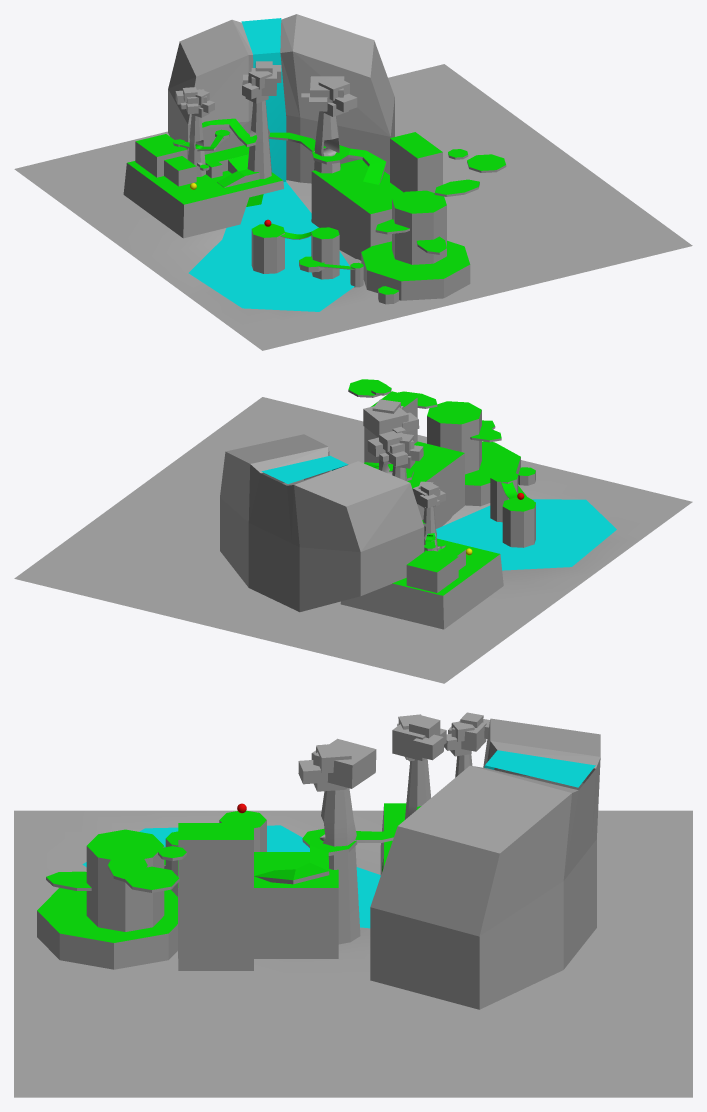
The model's file is Level_2.fbx.
3 views of the same model, one above another, from view 1: azimuth 30°, elevation 25°; view 2: azimuth 150°, elevation 25°; view 3: azimuth 270°, elevation 25° (orthographic). The views are drawn at different scales.
Parts seen in each view (by area): view 1: polySurface67, polySurface65, polySurface64, polySurface63, polySurface66, polySurface73, polySurface71, polySurface68, polySurface54, polySurface72, polySurface23, polySurface44 (+7 smaller); view 2: polySurface67, polySurface65, polySurface64, polySurface63, polySurface66, polySurface71, polySurface73, polySurface23, polySurface72, polySurface75, polySurface55, polySurface68 (+1 smaller); view 3: polySurface67, polySurface65, polySurface68, polySurface66, polySurface73, polySurface71, polySurface64, polySurface62, polySurface21, polySurface55, polySurface54, polySurface19 (+7 smaller).
Boxes of the visible parts, bbox=[...] form: polySurface67: bbox=[14, 64, 692, 350]; polySurface65: bbox=[168, 14, 394, 183]; polySurface64: bbox=[188, 18, 354, 311]; polySurface63: bbox=[123, 161, 283, 238]; polySurface66: bbox=[311, 159, 403, 260]; polySurface73: bbox=[361, 240, 470, 300]; polySurface71: bbox=[392, 190, 446, 264]; polySurface68: bbox=[390, 132, 442, 192]; polySurface54: bbox=[247, 100, 326, 178]; polySurface72: bbox=[251, 223, 284, 273]; polySurface23: bbox=[135, 134, 187, 177]; polySurface44: bbox=[187, 115, 255, 176]; polySurface67: bbox=[14, 397, 692, 683]; polySurface65: bbox=[220, 434, 424, 612]; polySurface64: bbox=[261, 455, 616, 570]; polySurface63: bbox=[340, 538, 503, 629]; polySurface66: bbox=[407, 441, 464, 528]; polySurface71: bbox=[427, 401, 481, 474]; polySurface73: bbox=[465, 441, 520, 506]; polySurface23: bbox=[406, 550, 458, 592]; polySurface72: bbox=[502, 497, 535, 547]; polySurface75: bbox=[490, 470, 518, 522]; polySurface55: bbox=[363, 406, 408, 437]; polySurface68: bbox=[364, 391, 417, 462]; polySurface67: bbox=[14, 810, 692, 1097]; polySurface65: bbox=[370, 718, 600, 1009]; polySurface68: bbox=[178, 823, 253, 970]; polySurface66: bbox=[178, 852, 338, 958]; polySurface73: bbox=[37, 888, 177, 969]; polySurface71: bbox=[86, 829, 164, 931]; polySurface64: bbox=[82, 750, 595, 928]; polySurface62: bbox=[319, 788, 360, 944]; polySurface21: bbox=[254, 829, 357, 884]; polySurface55: bbox=[313, 738, 376, 788]; polySurface54: bbox=[355, 758, 430, 842]; polySurface19: bbox=[124, 866, 179, 892].
Size of the model in its own units: 141 by 54.29 by 141.
